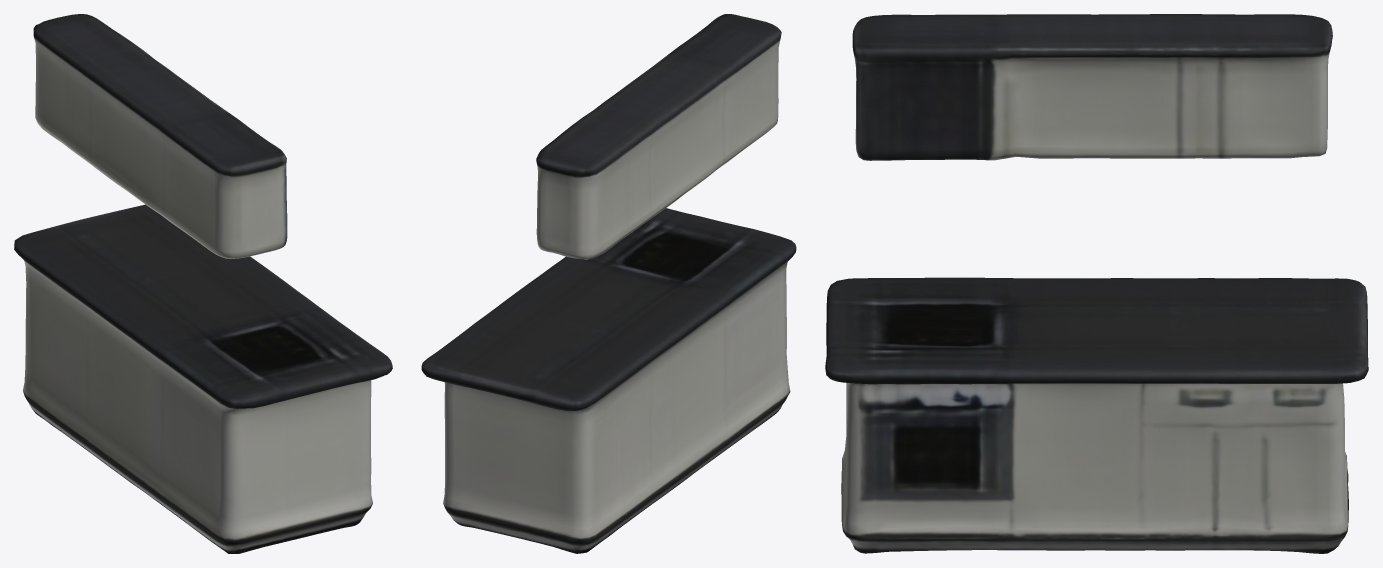
File: kitchen.fbx
3 views of the same model, side by side, from view 1: azimuth 30°, elevation 25°; view 2: azimuth 150°, elevation 25°; view 3: azimuth 270°, elevation 25° (orthographic). The views are drawn at different scales.
Parts seen in each view (by area): view 1: mesh; view 2: mesh; view 3: mesh.
Part boxes in pixels (box(x1,y1,x2,y2)): mesh: box(14, 14, 392, 553); mesh: box(421, 14, 796, 553); mesh: box(825, 14, 1368, 553).
Bounding box in the file's own units: 42.54 × 94.73 × 99.9.
